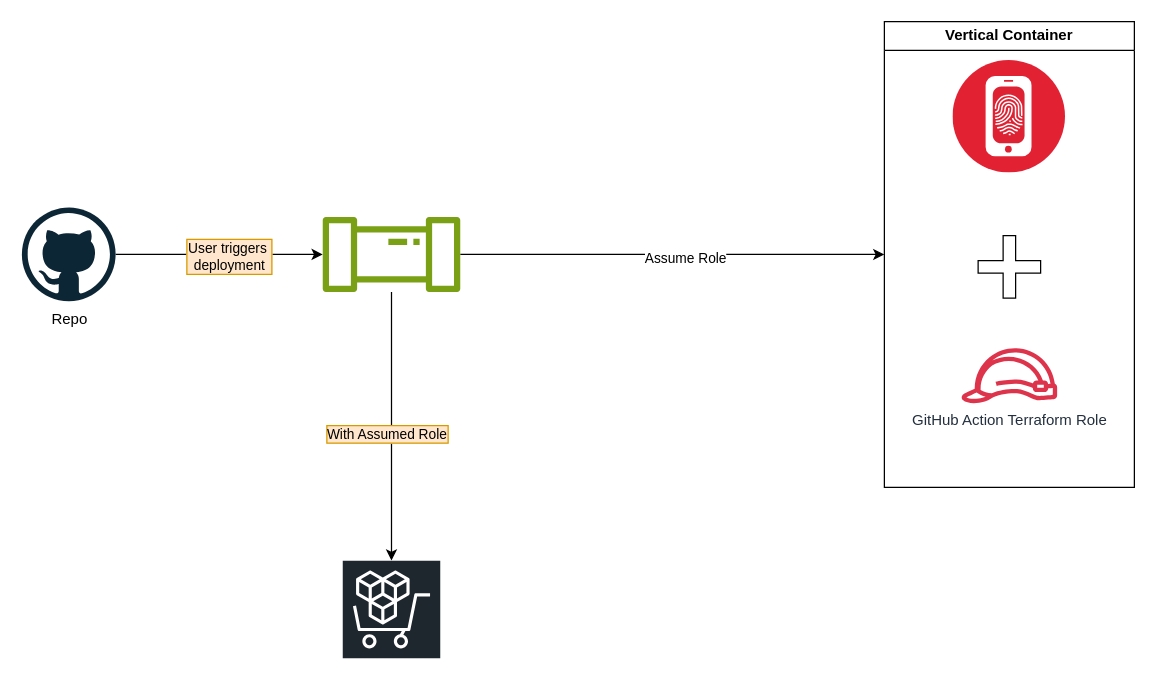
Image size: 1156x681. Some labels were removed from this diagram. Here are the shapes that lost their labels. From the top down, the centre of each, then its label:
pixel 1008 116: OIDC Identity Provider
pixel 390 253: Deploy Pipeline
